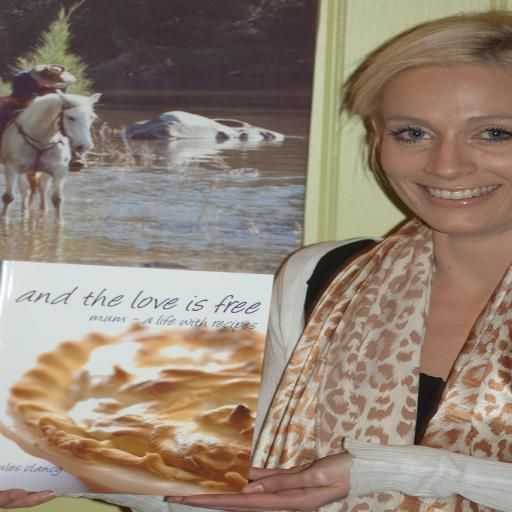horse: (0, 88, 104, 226)
